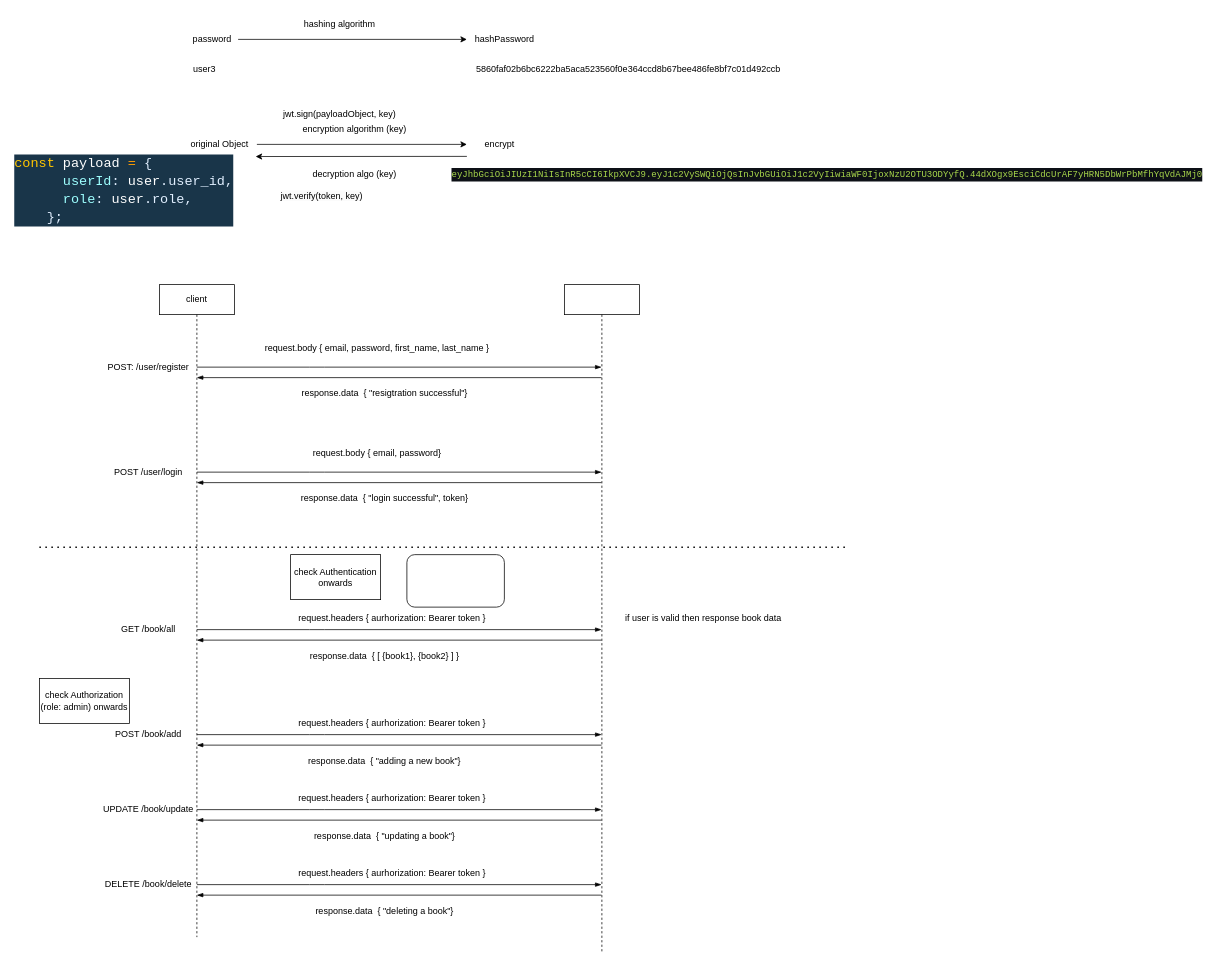
The diagram is 1222 pixels wide and 965 high, and some of its shapes have lost their labels. Here are the shapes that lost their labels. From the top down, the box of each, then its label:
(406, 554, 504, 607): request.user { userId: 4, role: user firstName: user3 }
(564, 284, 639, 952): server
